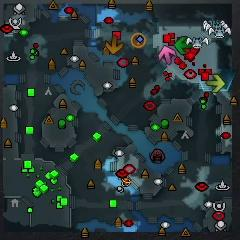Other: (130, 32, 146, 48)
x1: (159, 46, 175, 65)
x2: (208, 73, 225, 92)
x4: (175, 36, 191, 54)
x5: (106, 35, 124, 54)
